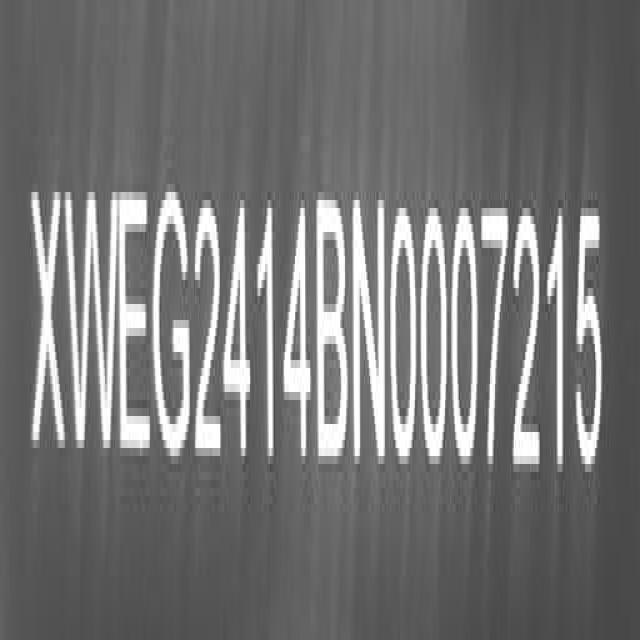0: (420, 208, 450, 470), (452, 201, 481, 471), (392, 207, 420, 469)
1: (549, 202, 572, 482), (257, 191, 277, 467)
2: (195, 194, 226, 471), (514, 206, 544, 484)
4: (283, 192, 316, 469), (223, 194, 253, 468)
5: (576, 197, 605, 480)
7: (483, 198, 509, 476)
B: (318, 192, 350, 470)
E: (118, 186, 153, 466)
G: (153, 184, 193, 464)
N: (353, 194, 387, 470)
W: (68, 183, 120, 464)
X: (32, 180, 68, 465)
